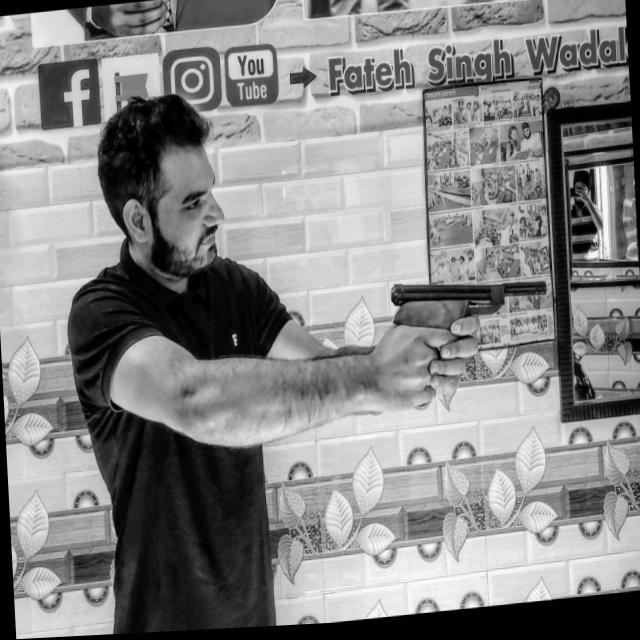weapon: (384, 272, 554, 397)
